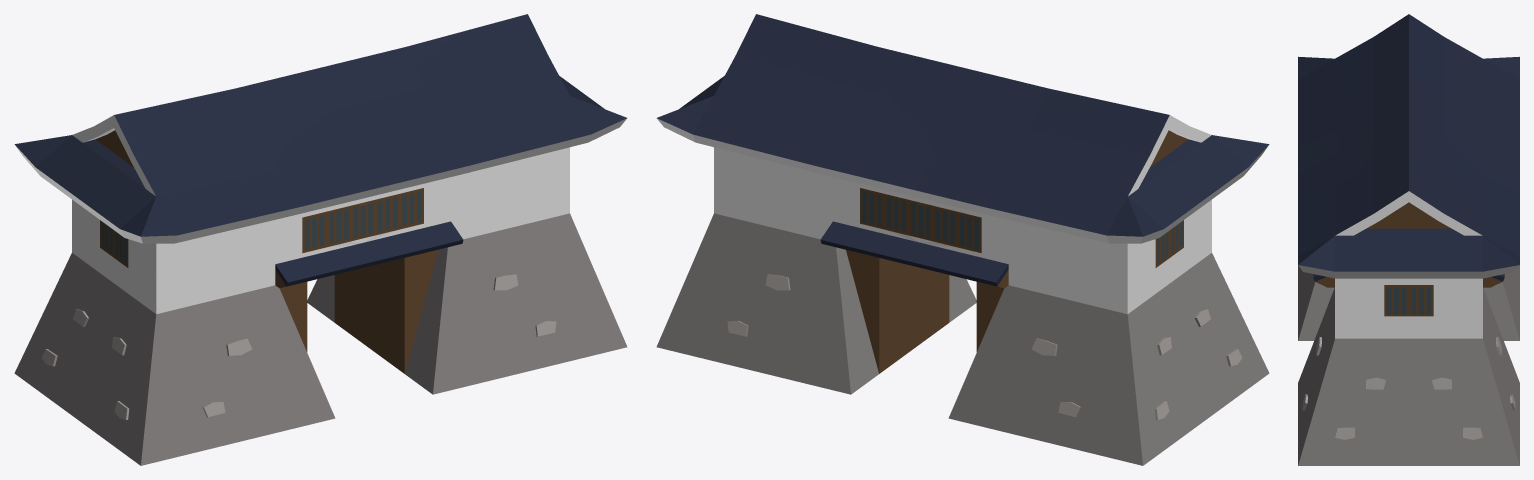
Rendered from japan_gate-japan.fbx.
The picture shows the model from 3 angles, left to right: view 1: azimuth 30°, elevation 25°; view 2: azimuth 150°, elevation 25°; view 3: azimuth 270°, elevation 25°; orthographic projection. The views are drawn at different scales.
Visible parts, largest first — view 1: japan_gate_japan; view 2: japan_gate_japan; view 3: japan_gate_japan.
Part boxes in pixels (left/top/right/bottom): japan_gate_japan: left=14, top=14, right=627, bottom=465; japan_gate_japan: left=656, top=14, right=1269, bottom=465; japan_gate_japan: left=1298, top=14, right=1519, bottom=465.
Bounding box in the file's own units: 200 × 116 × 90.
